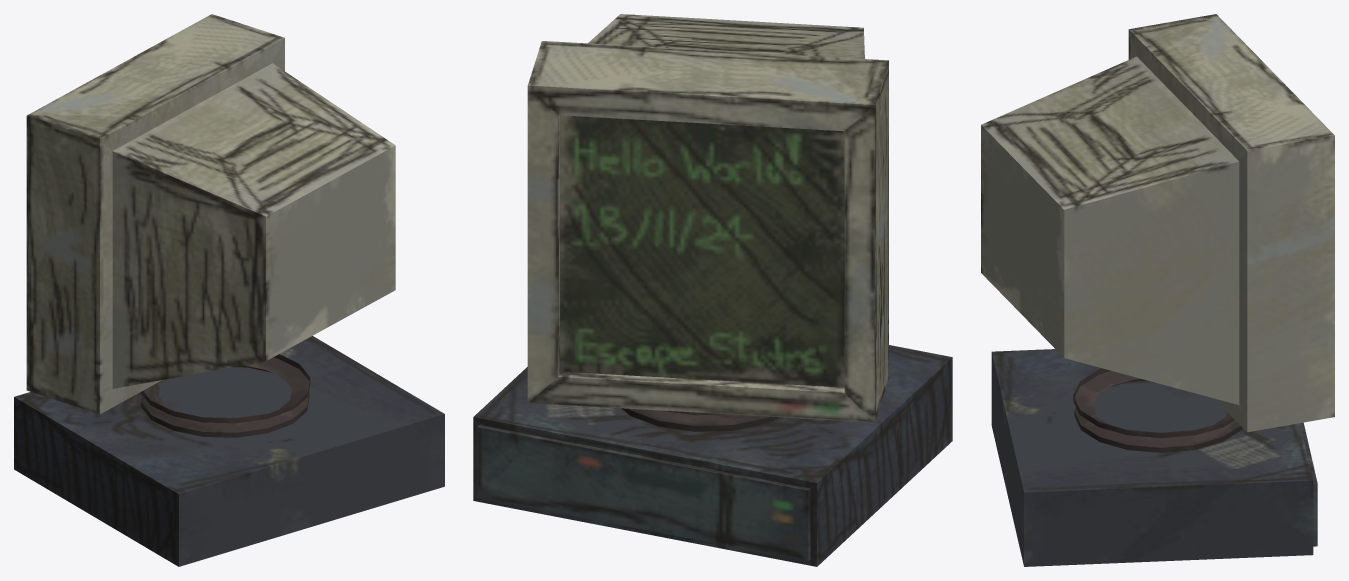
3 renders of one model, left to right at view 1: azimuth 30°, elevation 25°; view 2: azimuth 150°, elevation 25°; view 3: azimuth 270°, elevation 25°, orthographic. The views are drawn at different scales.
Parts seen in each view (by area): view 1: Boxes.001; view 2: Boxes.001; view 3: Boxes.001.
Boxes of the visible parts, x1,y1,x2,y2 form: Boxes.001: (14,14,444,566); Boxes.001: (473,14,952,566); Boxes.001: (981,14,1334,566).
Bounding box in the file's own units: 64.03 × 71.98 × 59.04.
